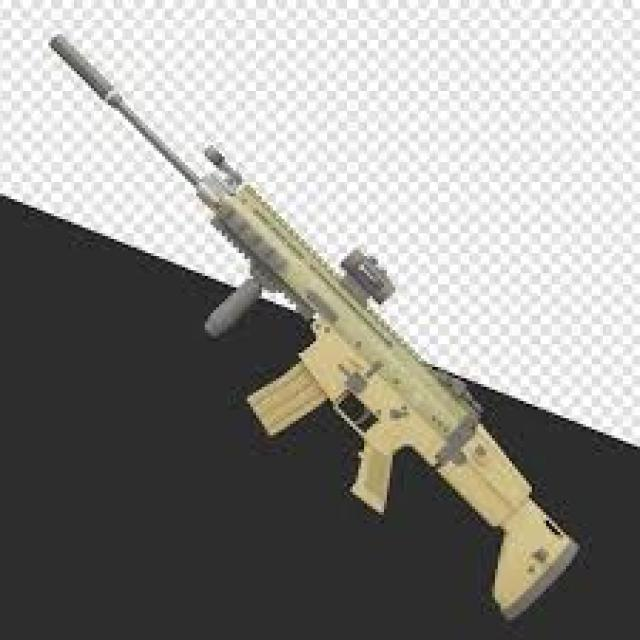Gun: (31, 28, 611, 620)
